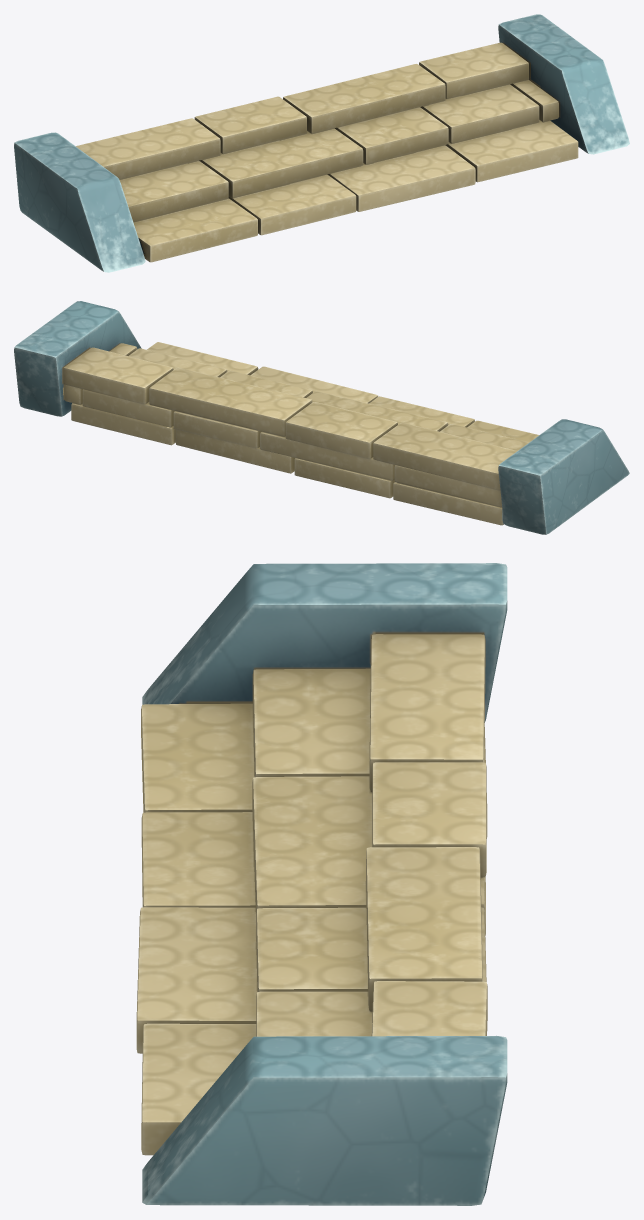
The model's file is Abysses_Escalier.fbx.
3 renders of one model, top to bottom at view 1: azimuth 30°, elevation 25°; view 2: azimuth 150°, elevation 25°; view 3: azimuth 270°, elevation 25°, orthographic. The views are drawn at different scales.
Parts seen in each view (by area): view 1: Abysses_Escalier; view 2: Abysses_Escalier; view 3: Abysses_Escalier.
Part boxes in pixels (x1=…): Abysses_Escalier: x1=14, y1=14, x2=629, y2=272; Abysses_Escalier: x1=14, y1=301, x2=629, y2=534; Abysses_Escalier: x1=136, y1=563, x2=507, y2=1205.
Bounding box in the file's own units: 1920 × 230 × 584.
1 material, 1 textured.
